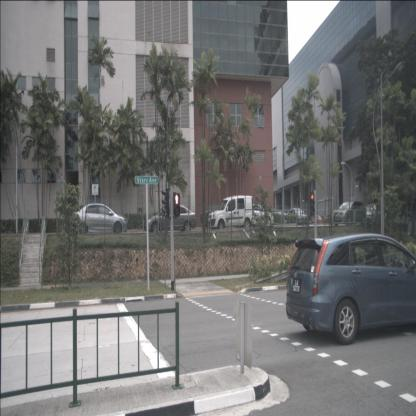vehicle-car: (285, 232, 416, 346), (72, 202, 128, 235), (207, 194, 254, 230), (143, 204, 197, 233), (239, 203, 274, 228), (332, 201, 366, 225), (363, 203, 383, 225), (285, 207, 308, 225), (268, 207, 288, 224), (309, 214, 325, 226), (323, 212, 338, 224)
